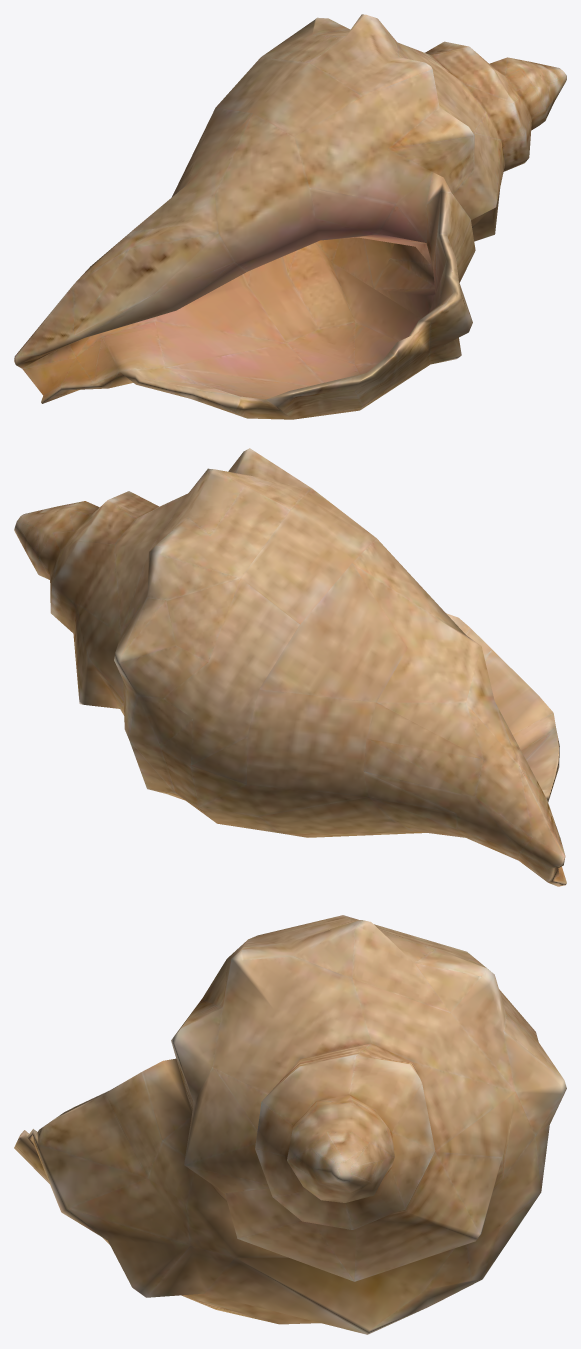
Rendered from shell_conch.glb.
The picture shows the model from 3 angles, top to bottom: view 1: azimuth 30°, elevation 25°; view 2: azimuth 150°, elevation 25°; view 3: azimuth 270°, elevation 25°; orthographic projection. The views are drawn at different scales.
Visible parts, largest first — view 1: geometry_0; view 2: geometry_0; view 3: geometry_0.
Part boxes in pixels (x1,y1,x2,y2): geometry_0: [14, 14, 566, 419]; geometry_0: [14, 448, 566, 886]; geometry_0: [14, 915, 566, 1334].
Size of the model in its own units: 0.3 by 0.1807 by 0.2074.
1 material, 1 textured.
